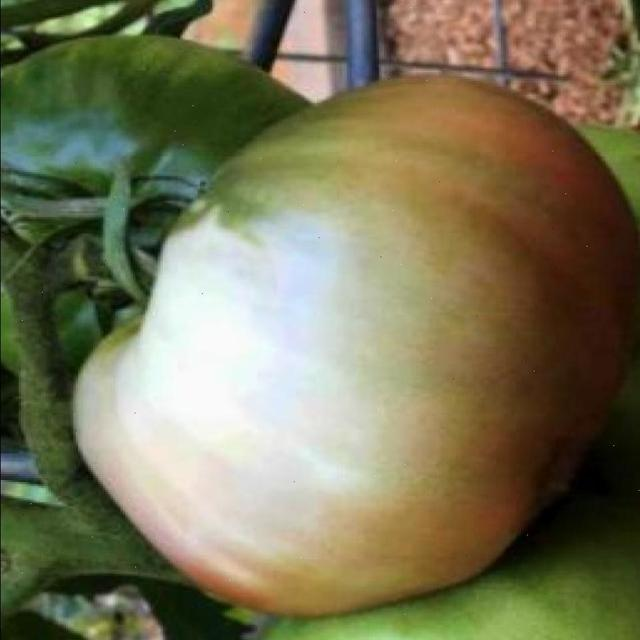Sunscald Fruit: (54, 137, 270, 358)
